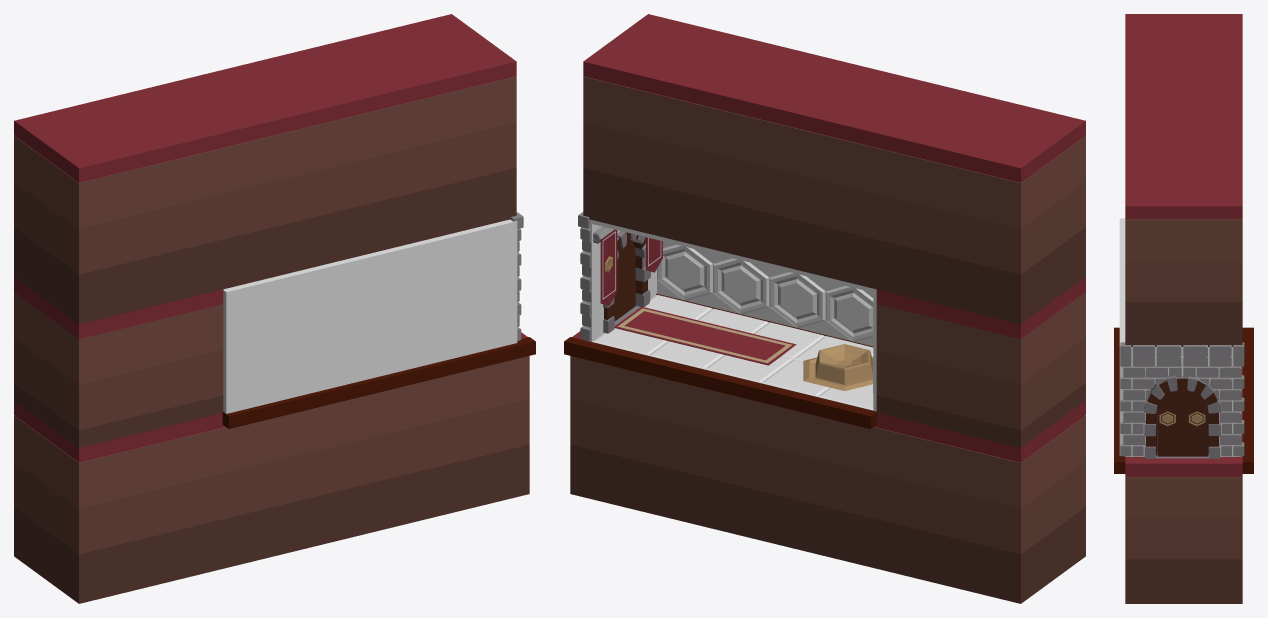
Rendered from Templo.fbx.
3 views of the same model, side by side, from view 1: azimuth 30°, elevation 25°; view 2: azimuth 150°, elevation 25°; view 3: azimuth 270°, elevation 25° (orthographic). The views are drawn at different scales.
Visible parts, largest first — view 1: Plane.095, Plane.135, Plane.134, Plane.099, Plane.133, Cube.143, Plane.069, Plane.131, Cube.170; view 2: Plane.095, Plane.135, Plane.134, Plane.133, Circle.001, Cube.165, Cube.143, Plane.136, Plane.069, Circle, Plane.099, Cube.145 (+4 smaller); view 3: Plane.134, Plane.095, Plane.135, Cube.145, Cube.143, Plane.069, Cube.146, Cube.166, Cube.170, Plane.131, Cube.169, Cube.158 (+18 smaller).
Boxes of the visible parts, box(x1,y1,x2,y2) form: Plane.095: box(14, 356, 529, 603); Plane.135: box(14, 76, 516, 324); Plane.134: box(14, 14, 516, 182); Plane.099: box(224, 227, 511, 413); Plane.133: box(14, 277, 223, 447); Cube.143: box(222, 337, 535, 428); Plane.069: box(14, 332, 527, 462); Plane.131: box(223, 219, 515, 296); Cube.170: box(512, 221, 517, 344); Plane.095: box(570, 356, 1085, 603); Plane.135: box(583, 76, 1085, 324); Plane.134: box(583, 14, 1085, 182); Plane.133: box(876, 277, 1085, 447); Circle.001: box(657, 244, 873, 341); Cube.165: box(592, 294, 873, 410); Cube.143: box(564, 294, 877, 428); Plane.136: box(614, 306, 796, 365); Plane.069: box(572, 331, 1085, 462); Circle: box(803, 344, 873, 390); Plane.099: box(657, 241, 873, 346); Cube.145: box(603, 231, 650, 333); Plane.134: box(1125, 14, 1242, 219); Plane.095: box(1125, 477, 1242, 603); Plane.135: box(1125, 219, 1242, 346); Cube.145: box(1143, 375, 1221, 458); Cube.143: box(1114, 327, 1253, 473); Plane.069: box(1125, 366, 1242, 476); Cube.146: box(1182, 389, 1207, 456); Cube.166: box(1157, 389, 1182, 456); Cube.170: box(1119, 346, 1240, 456); Plane.131: box(1119, 218, 1125, 345); Cube.169: box(1156, 345, 1207, 356); Cube.158: box(1156, 356, 1207, 366).
Bounding box in the file's own units: 3200 × 2957 × 955.
